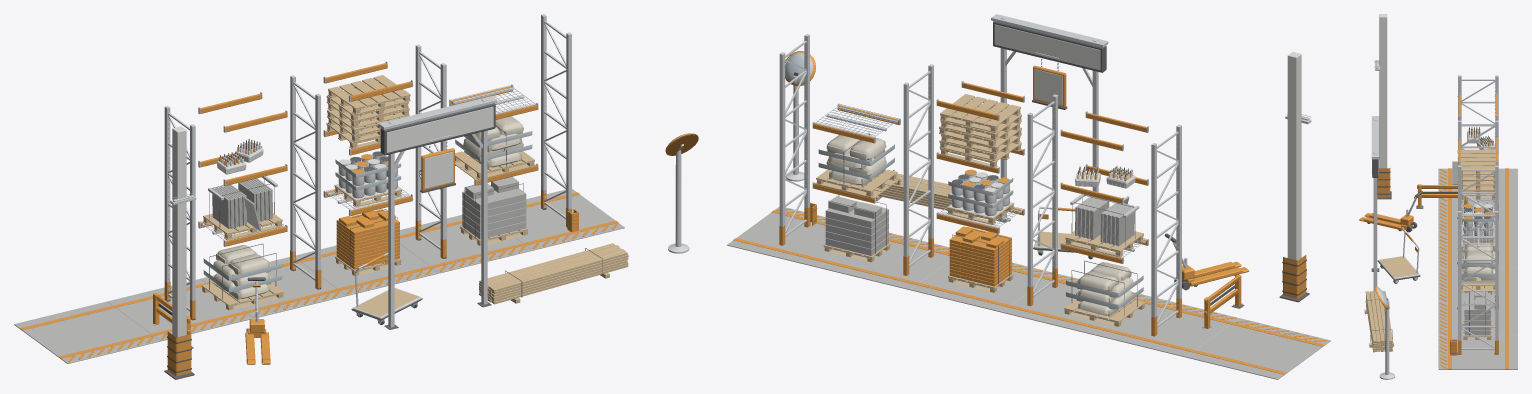
File: warehouse-high-bay-aisles.glb
3 renders of one model, left to right at view 1: azimuth 30°, elevation 25°; view 2: azimuth 150°, elevation 25°; view 3: azimuth 270°, elevation 25°, orthographic. The views are drawn at different scales.
Parts seen in each view (by area): view 1: 000-aisle-floor-marking-tile/0, 032-timber-length-bundle/0, 026-empty-pallet-stack/0, 029-high-level-aisle-sign/0, 012-pallet-rack-upright-frame-4m/0, 008-pallet-rack-upright-frame-4m/0, 033-warehouse-column-and-guard/1, 005-aisle-floor-marking-tile/0, 004-aisle-floor-marking-tile/0, 020-concrete-block-pack/1, 019-brick-pack/1, 001-aisle-floor-marking-tile/0 (+29 smaller); view 2: 026-empty-pallet-stack/0, 000-aisle-floor-marking-tile/0, 001-aisle-floor-marking-tile/0, 012-pallet-rack-upright-frame-4m/0, 005-aisle-floor-marking-tile/0, 019-brick-pack/1, 004-aisle-floor-marking-tile/0, 020-concrete-block-pack/1, 033-warehouse-column-and-guard/1, 008-pallet-rack-upright-frame-4m/0, 006-pallet-rack-upright-frame-4m/0, 010-pallet-rack-upright-frame-4m/0 (+31 smaller); view 3: 005-aisle-floor-marking-tile/0, 012-pallet-rack-upright-frame-4m/0, 026-empty-pallet-stack/0, 033-warehouse-column-and-guard/1, 004-aisle-floor-marking-tile/0, 003-aisle-floor-marking-tile/0, 001-aisle-floor-marking-tile/0, 032-timber-length-bundle/0, 020-concrete-block-pack/1, 002-aisle-floor-marking-tile/0, 023-compost-bag-pallet/1, 000-aisle-floor-marking-tile/0 (+28 smaller).
Boxes of the visible parts, x1,y1,x2,y2 form: 000-aisle-floor-marking-tile/0: (14, 301, 160, 363); 032-timber-length-bundle/0: (479, 243, 628, 304); 026-empty-pallet-stack/0: (326, 75, 410, 149); 029-high-level-aisle-sign/0: (378, 96, 497, 327); 012-pallet-rack-upright-frame-4m/0: (541, 14, 571, 218); 008-pallet-rack-upright-frame-4m/0: (290, 75, 320, 280); 033-warehouse-column-and-guard/1: (172, 126, 186, 337); 005-aisle-floor-marking-tile/0: (511, 189, 624, 250); 004-aisle-floor-marking-tile/0: (400, 215, 531, 273); 020-concrete-block-pack/1: (462, 176, 526, 239); 019-brick-pack/1: (336, 209, 399, 269); 001-aisle-floor-marking-tile/0: (107, 279, 253, 341); 026-empty-pallet-stack/0: (939, 94, 1021, 168); 000-aisle-floor-marking-tile/0: (1186, 318, 1330, 379); 001-aisle-floor-marking-tile/0: (1094, 295, 1238, 357); 012-pallet-rack-upright-frame-4m/0: (779, 34, 809, 236); 005-aisle-floor-marking-tile/0: (727, 206, 839, 267); 019-brick-pack/1: (949, 226, 1011, 286); 004-aisle-floor-marking-tile/0: (819, 232, 949, 290); 020-concrete-block-pack/1: (825, 196, 888, 255); 033-warehouse-column-and-guard/1: (1287, 52, 1301, 260); 008-pallet-rack-upright-frame-4m/0: (1027, 94, 1057, 297); 006-pallet-rack-upright-frame-4m/0: (1151, 124, 1181, 327); 010-pallet-rack-upright-frame-4m/0: (903, 64, 933, 266); 005-aisle-floor-marking-tile/0: (1438, 336, 1517, 369); 012-pallet-rack-upright-frame-4m/0: (1458, 211, 1498, 349); 026-empty-pallet-stack/0: (1457, 149, 1498, 200); 033-warehouse-column-and-guard/1: (1379, 14, 1387, 197); 004-aisle-floor-marking-tile/0: (1438, 302, 1517, 335); 003-aisle-floor-marking-tile/0: (1438, 269, 1517, 302); 001-aisle-floor-marking-tile/0: (1438, 202, 1517, 235); 032-timber-length-bundle/0: (1364, 291, 1393, 352); 020-concrete-block-pack/1: (1464, 288, 1490, 335); 002-aisle-floor-marking-tile/0: (1438, 235, 1517, 268); 023-compost-bag-pallet/1: (1461, 242, 1495, 280); 000-aisle-floor-marking-tile/0: (1438, 168, 1517, 201).
Bounding box in the file's own units: 12.74 × 5.03 × 4.02.
